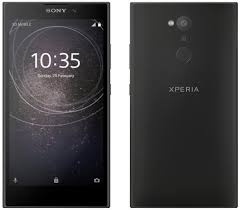sony: (126, 1, 240, 210), (1, 1, 113, 210)
